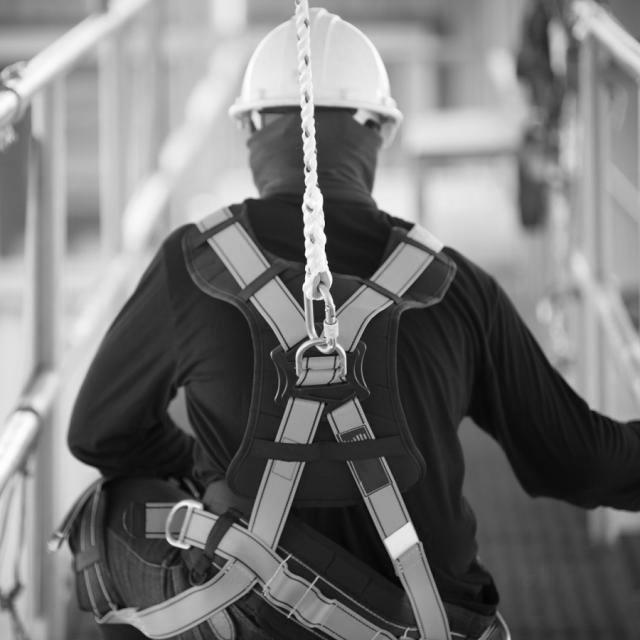construction helmet: (229, 3, 402, 171)
